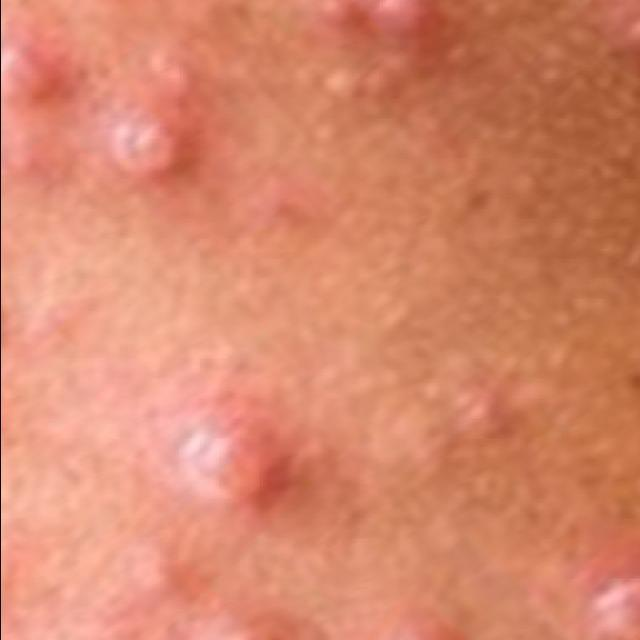acne: (138, 382, 312, 534), (94, 96, 204, 212), (0, 0, 69, 146), (322, 0, 436, 60), (576, 571, 640, 640), (360, 611, 476, 640), (178, 613, 294, 640)
